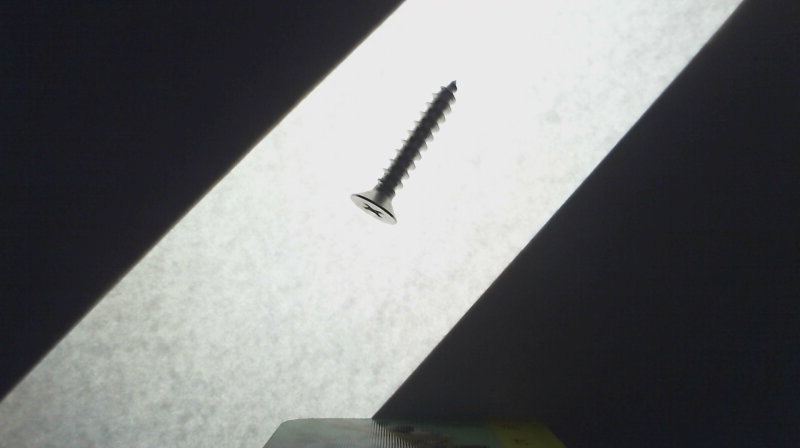S001: (347, 79, 458, 225)
